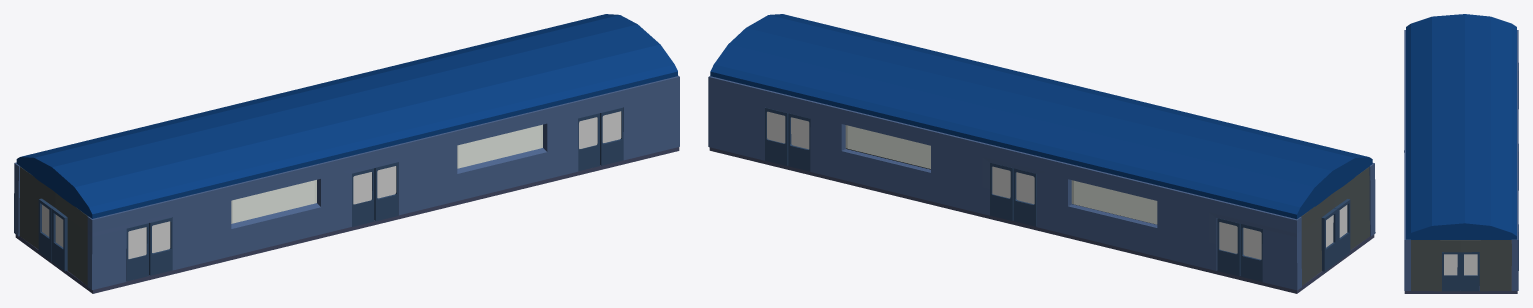
The model's file is Train(3 Door).fbx.
3 views of the same model, side by side, from view 1: azimuth 30°, elevation 25°; view 2: azimuth 150°, elevation 25°; view 3: azimuth 270°, elevation 25° (orthographic). The views are drawn at different scales.
Parts seen in each view (by area): view 1: Atap, Tembok, Tembok.2, Lantai, Jendela, Jendela.002, Pintu(bg).003, Pintu(bg).009, Pintu(bg).001, Pintu(bg).010, Pintu(bg).004, Pintu.002 (+9 smaller); view 2: Atap, Tembok.004, Tembok.2, Lantai, Jendela.003, Jendela.001, Pintu(bg).007, Pintu(bg).011, Pintu(bg).008, Pintu(bg).005, Pintu(bg).012, Pintu(bg).006 (+9 smaller); view 3: Atap, Tembok.003, Tembok, Tembok.004, Pintu.003, Pintu.004, Lantai, Kaca.002, Kaca.003.
Boxes of the visible parts, box(x1,y1,x2,y2) form: Atap: box(16, 14, 677, 218); Tembok: box(87, 75, 679, 290); Tembok.2: box(19, 167, 87, 285); Lantai: box(15, 147, 679, 293); Jendela: box(457, 124, 542, 168); Jendela.002: box(231, 180, 316, 223); Pintu(bg).003: box(374, 162, 398, 221); Pintu(bg).009: box(149, 217, 172, 275); Pintu(bg).001: box(600, 107, 623, 165); Pintu(bg).010: box(126, 223, 148, 281); Pintu(bg).004: box(352, 168, 374, 226); Pintu.002: box(52, 208, 67, 271); Atap: box(710, 14, 1372, 219); Tembok.004: box(708, 76, 1301, 290); Tembok.2: box(1301, 167, 1369, 285); Lantai: box(709, 147, 1374, 293); Jendela.003: box(1071, 180, 1157, 224); Jendela.001: box(845, 125, 930, 168); Pintu(bg).007: box(990, 162, 1013, 220); Pintu(bg).011: box(1217, 218, 1240, 276); Pintu(bg).008: box(1013, 168, 1036, 226); Pintu(bg).005: box(765, 107, 788, 165); Pintu(bg).012: box(1240, 224, 1262, 281); Pintu(bg).006: box(788, 113, 810, 171); Atap: box(1406, 14, 1516, 239); Tembok.003: box(1411, 240, 1511, 291); Tembok: box(1404, 30, 1410, 290); Tembok.004: box(1512, 30, 1518, 290); Pintu.003: box(1461, 252, 1479, 291); Pintu.004: box(1442, 252, 1460, 291); Lantai: box(1404, 240, 1517, 293); Kaca.002: box(1464, 254, 1477, 275); Kaca.003: box(1444, 254, 1457, 275).
Bounding box in the file's own units: 4848 × 1115 × 757.
